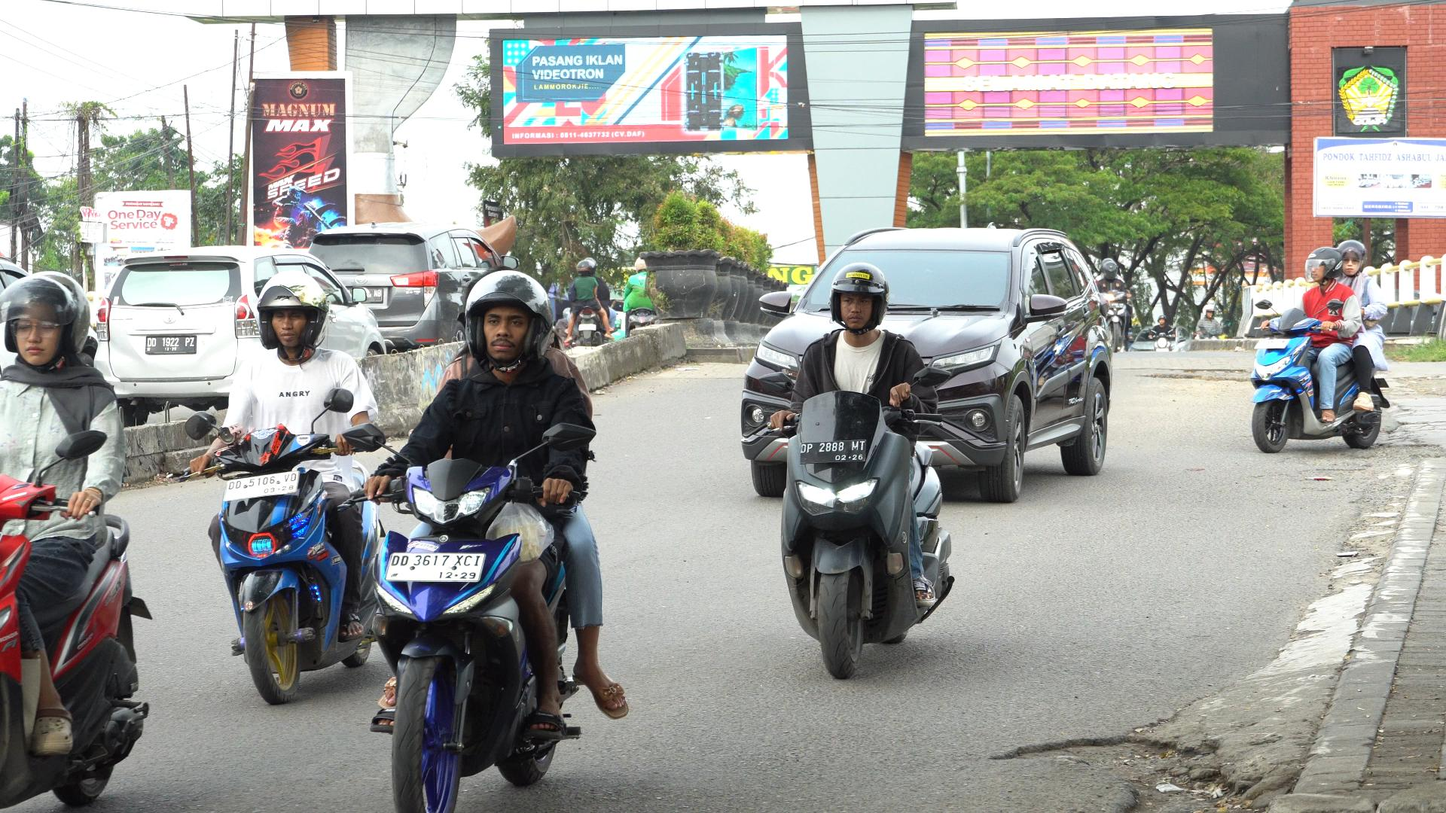number-plate: (389, 550, 489, 583), (795, 441, 868, 467)
